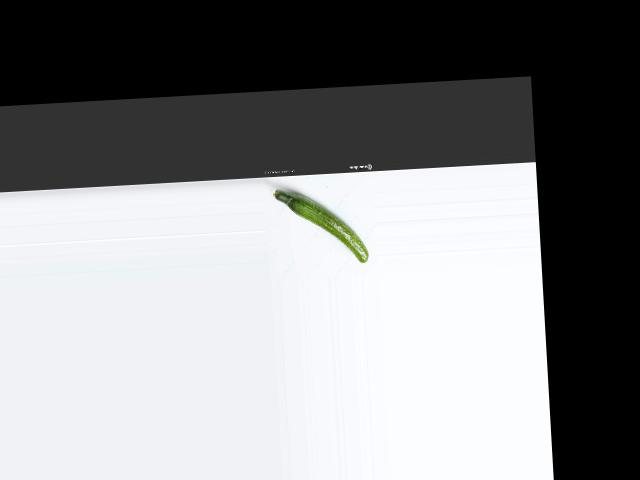cucumber: (272, 185, 368, 267)
